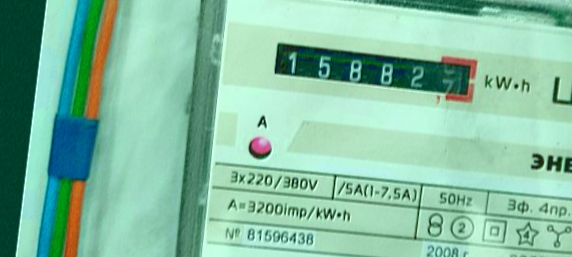1: (285, 49, 300, 77)
2: (408, 64, 427, 91)
5: (316, 54, 333, 82)
7: (439, 77, 456, 96)
8: (347, 58, 366, 85), (379, 62, 396, 88)
screen: (263, 31, 487, 114)
